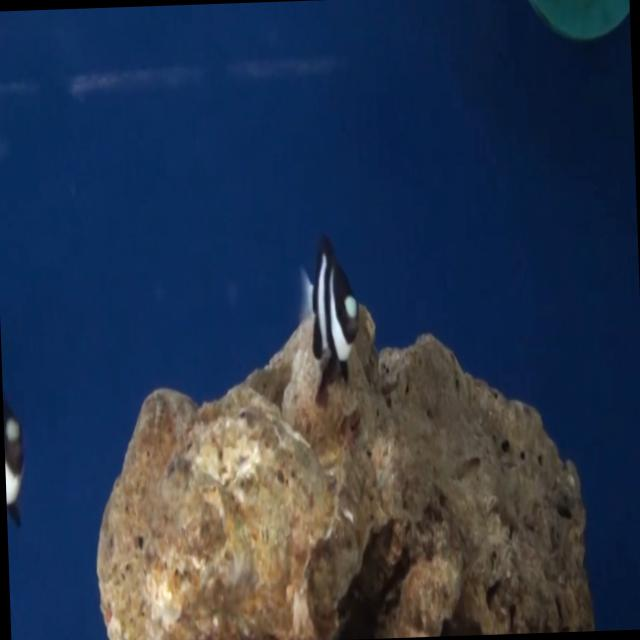ThreeStripedDamselfish: (302, 235, 359, 401)
